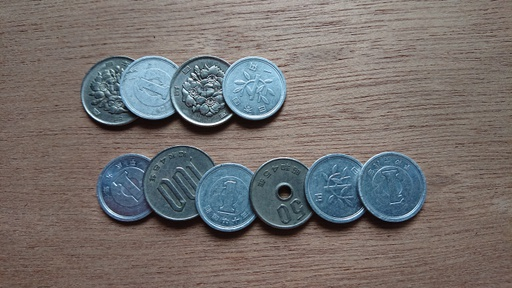100yen: (142, 145, 221, 222), (169, 55, 243, 127), (79, 55, 151, 127)
1yen: (356, 151, 426, 223), (96, 153, 165, 223), (303, 153, 371, 224), (195, 163, 262, 231), (120, 56, 186, 120), (222, 56, 285, 121)
50yen: (249, 157, 314, 230)
